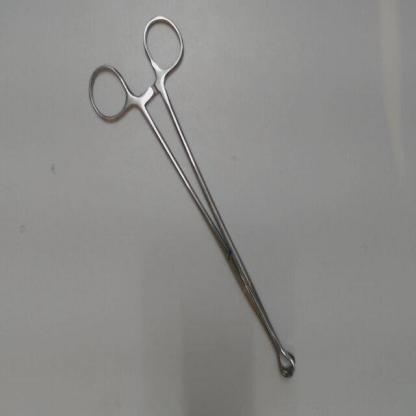8 Babcock Tissue Forceps: (81, 12, 305, 386)
